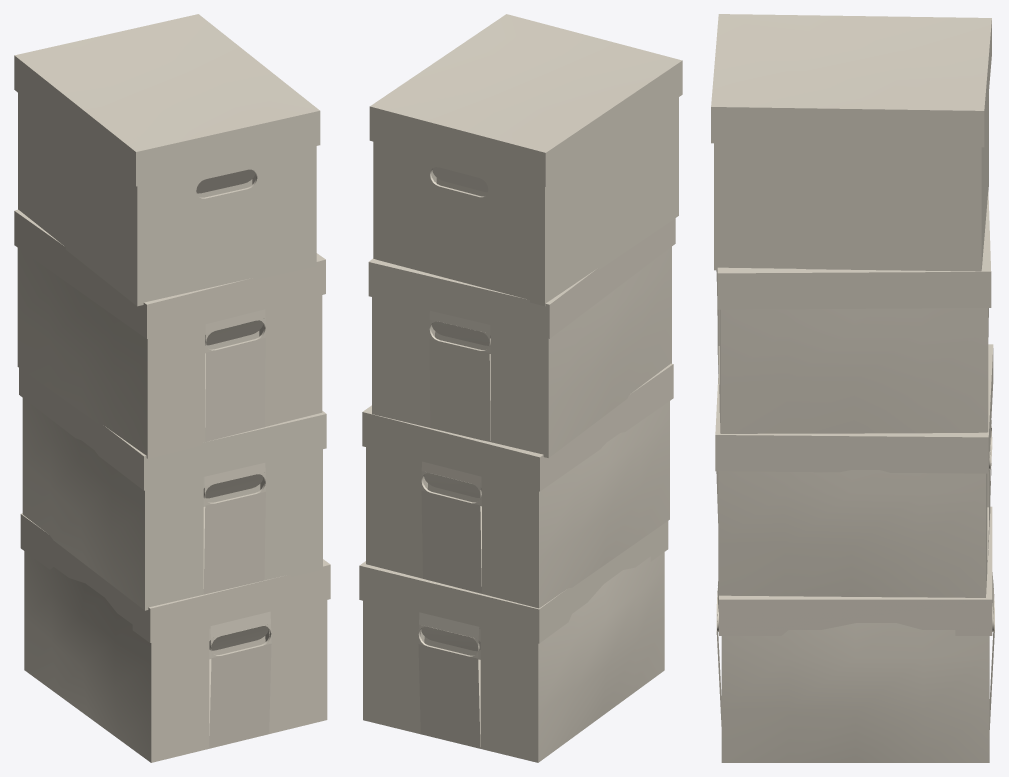
File: Kit_RecordsCarton_Sagging.fbx
3 renders of one model, left to right at view 1: azimuth 30°, elevation 25°; view 2: azimuth 150°, elevation 25°; view 3: azimuth 270°, elevation 25°, orthographic. The views are drawn at different scales.
Visible parts, largest first — view 1: Kit_RecordsCarton_Sagging_LOD0; view 2: Kit_RecordsCarton_Sagging_LOD0; view 3: Kit_RecordsCarton_Sagging_LOD0.
Boxes of the visible parts, bbox=[...] form: Kit_RecordsCarton_Sagging_LOD0: bbox=[14, 14, 330, 762]; Kit_RecordsCarton_Sagging_LOD0: bbox=[359, 14, 682, 762]; Kit_RecordsCarton_Sagging_LOD0: bbox=[711, 14, 994, 762].
Size of what is drawn, in the model's own units: 0.3441 by 1.02 by 0.4039.
